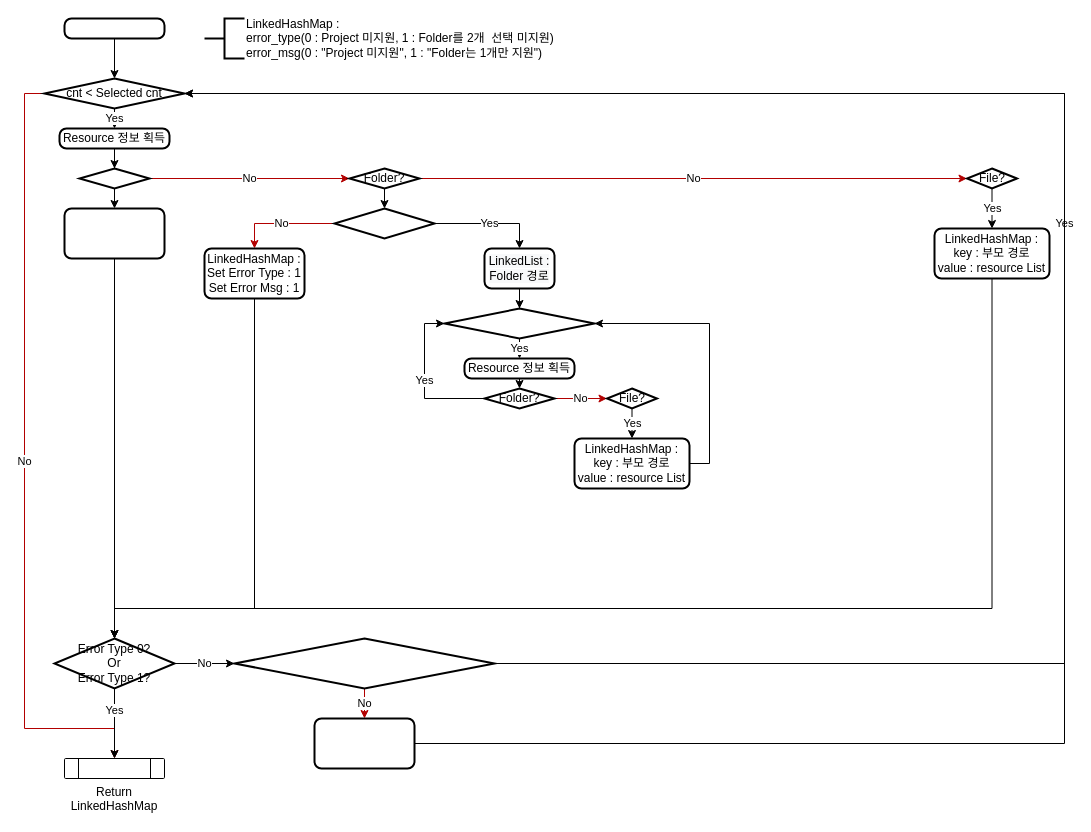
Some shapes in this 1091 by 832 pixel diagram are drawn without their labels. The shapes that lost their labels are listed below. From the top down, each one's box as (x1, y1, x2, y2) in pixels, then its label:
(63, 17, 165, 39): SQL 품질 점검
(78, 167, 150, 189): Project?
(63, 207, 165, 259): LinkedHashMap : Set Error Type : 0 Set Error Msg : 0
(333, 207, 435, 239): boolean == true
(443, 307, 595, 339): cnt < in Selected cnt
(233, 637, 495, 689): LinkedList : Folder 경로와 LinkedHashMap : key : 부모 경로가 다른가?
(313, 717, 415, 769): LinkedHashMap : key : 부모 경로 삭제
